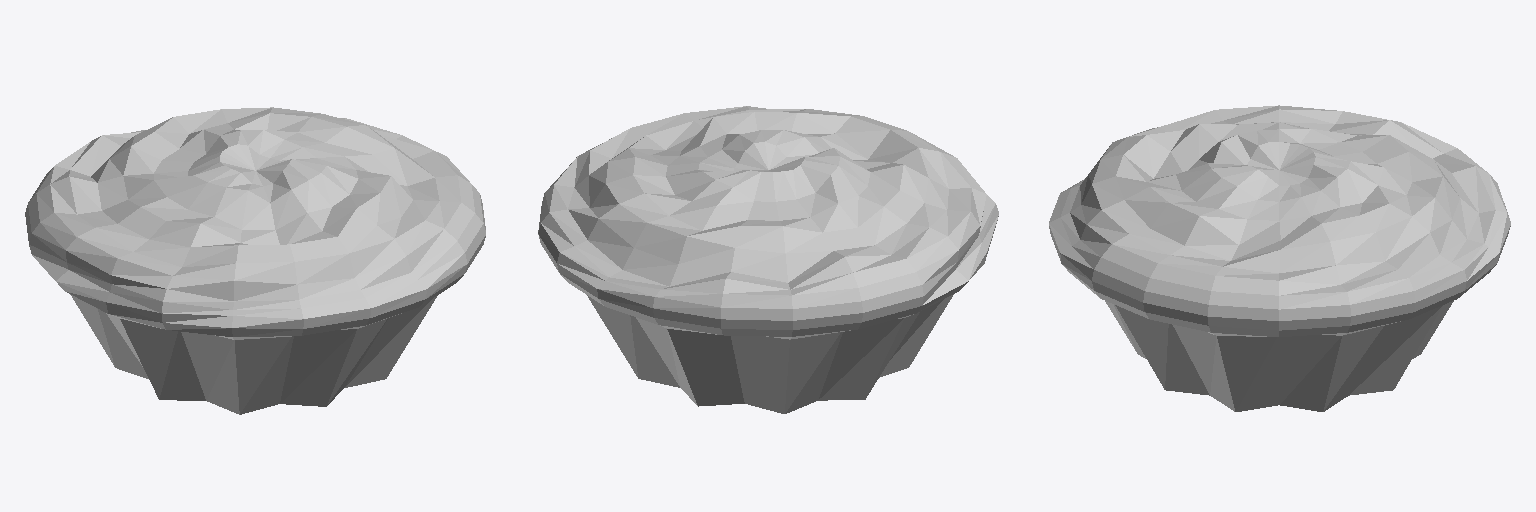
File: cake.obj
3 renders of one model, left to right at view 1: azimuth 30°, elevation 25°; view 2: azimuth 150°, elevation 25°; view 3: azimuth 270°, elevation 25°, orthographic.
Visible parts, largest first — view 1: objpolySurface20; view 2: objpolySurface20; view 3: objpolySurface20.
Boxes of the visible parts, box(x1,y1,x2,y2) form: objpolySurface20: box(25, 107, 485, 414); objpolySurface20: box(538, 106, 998, 413); objpolySurface20: box(1049, 105, 1510, 411).
Size of the model in its own units: 1.42 by 0.671 by 1.42.